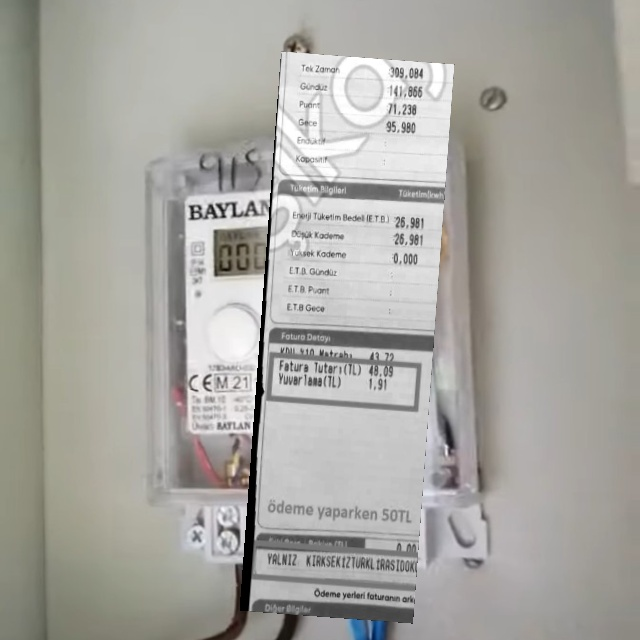electricity-bill: (240, 51, 455, 624)
